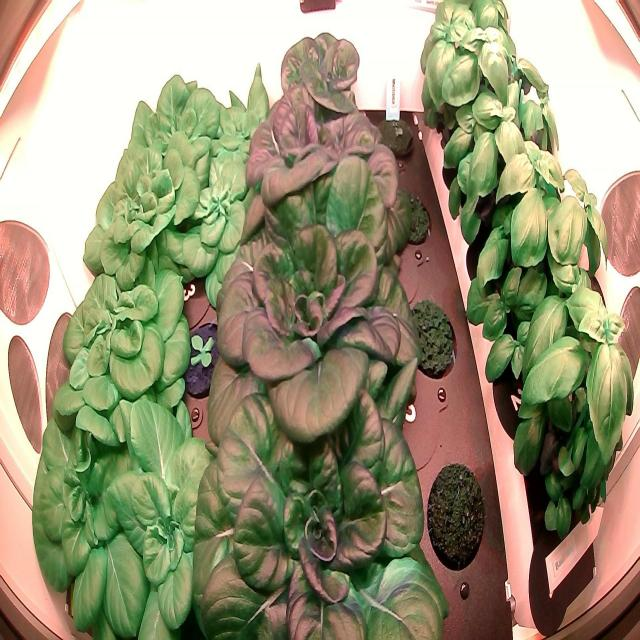Ready: (178, 352, 452, 640), (200, 175, 437, 460), (222, 75, 413, 254), (258, 20, 375, 136)
germination: (374, 103, 418, 168)
pod: (421, 456, 490, 578), (401, 294, 462, 384), (388, 187, 436, 254)
young: (95, 382, 242, 640), (30, 398, 172, 640), (53, 250, 189, 436), (76, 135, 201, 294), (163, 158, 274, 312), (116, 59, 220, 194), (206, 60, 286, 187), (170, 310, 234, 408)
